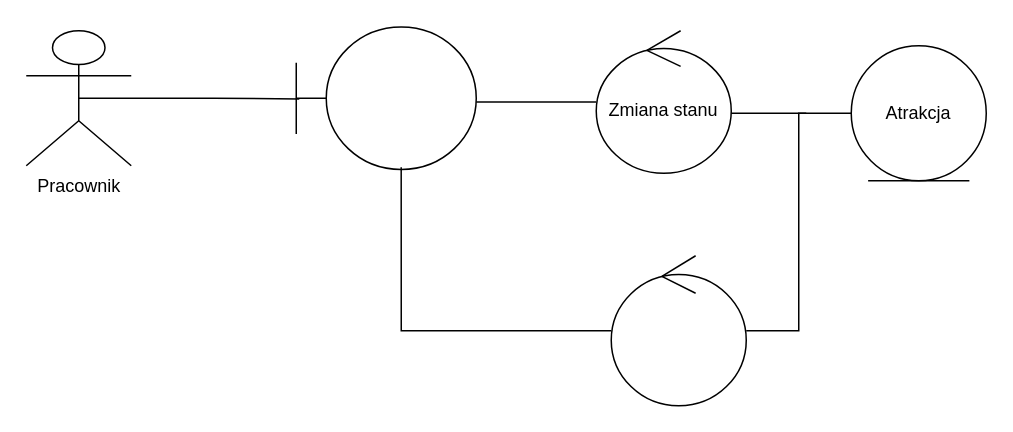
The diagram is 1013 pixels wide and 432 high, and some of its shapes have lost their labels. Each missing label, with the centre of its shape:
Kontroler stanu atrakcji: the point at 385,98
Pokaż stan: the point at 678,330
